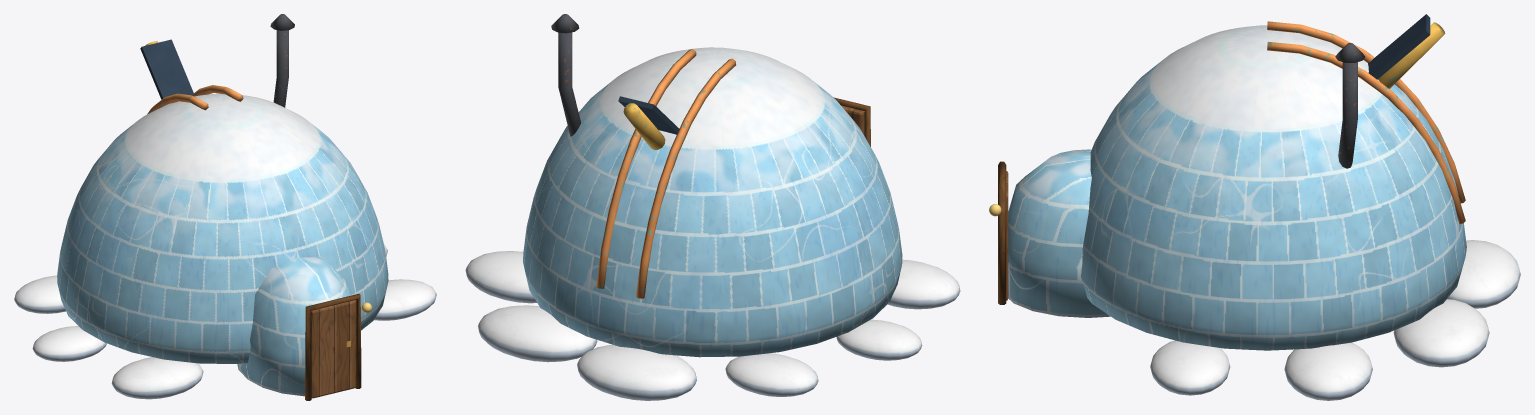
Rendered from observatory.glb.
3 views of the same model, side by side, from view 1: azimuth 30°, elevation 25°; view 2: azimuth 150°, elevation 25°; view 3: azimuth 270°, elevation 25° (orthographic). The views are drawn at different scales.
Visible parts, largest first — view 1: Observatory; view 2: Observatory; view 3: Observatory.
Boxes of the visible parts, left/top/right/bottom form: Observatory: left=14, top=14, right=436, bottom=400; Observatory: left=465, top=14, right=960, bottom=400; Observatory: left=989, top=14, right=1520, bottom=400.
Bounding box in the file's own units: 7.47 × 5.06 × 7.71.
Materials: 1 (1 with a texture image).
